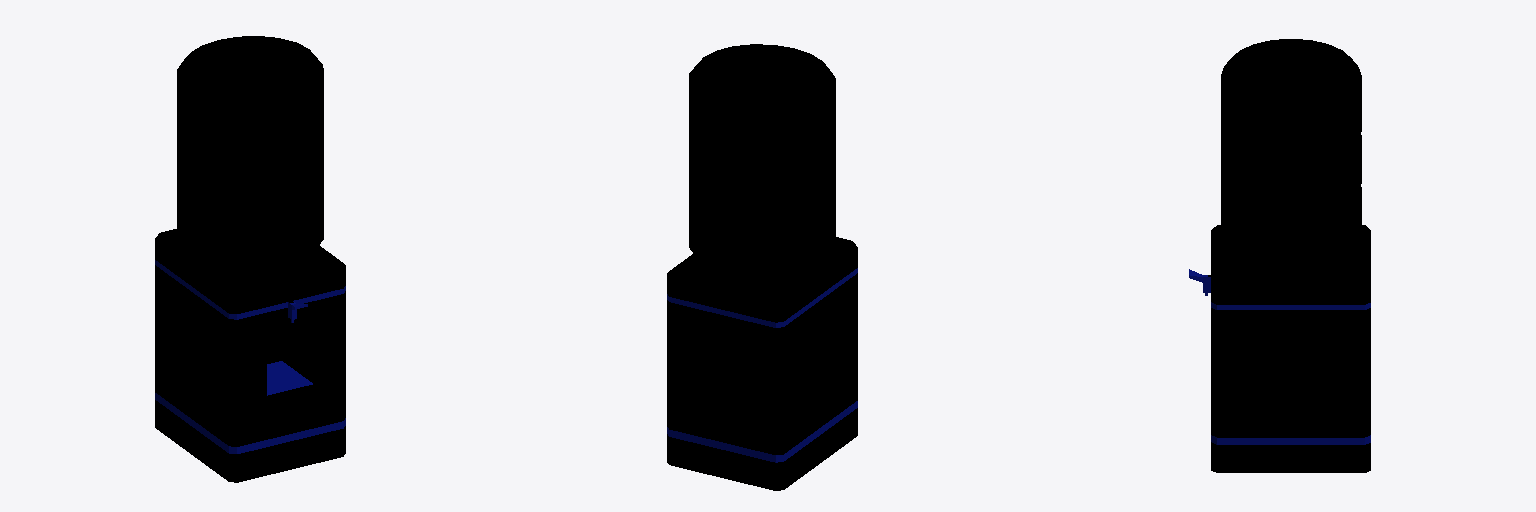
The model's file is Watercooler_RA.obj.
3 renders of one model, left to right at view 1: azimuth 30°, elevation 25°; view 2: azimuth 150°, elevation 25°; view 3: azimuth 270°, elevation 25°, orthographic.
Parts seen in each view (by area): view 1: pCube6; view 2: pCube6; view 3: pCube6.
Boxes of the visible parts, box(x1,y1,x2,y2) form: pCube6: box(155, 36, 345, 482); pCube6: box(667, 44, 857, 490); pCube6: box(1189, 39, 1370, 472).
Size of the model in its own units: 1.11 by 3.08 by 1.35.